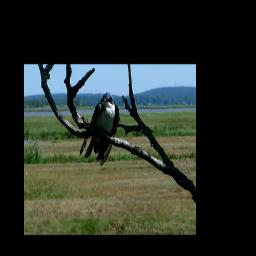Swallow: (78, 90, 121, 168)
